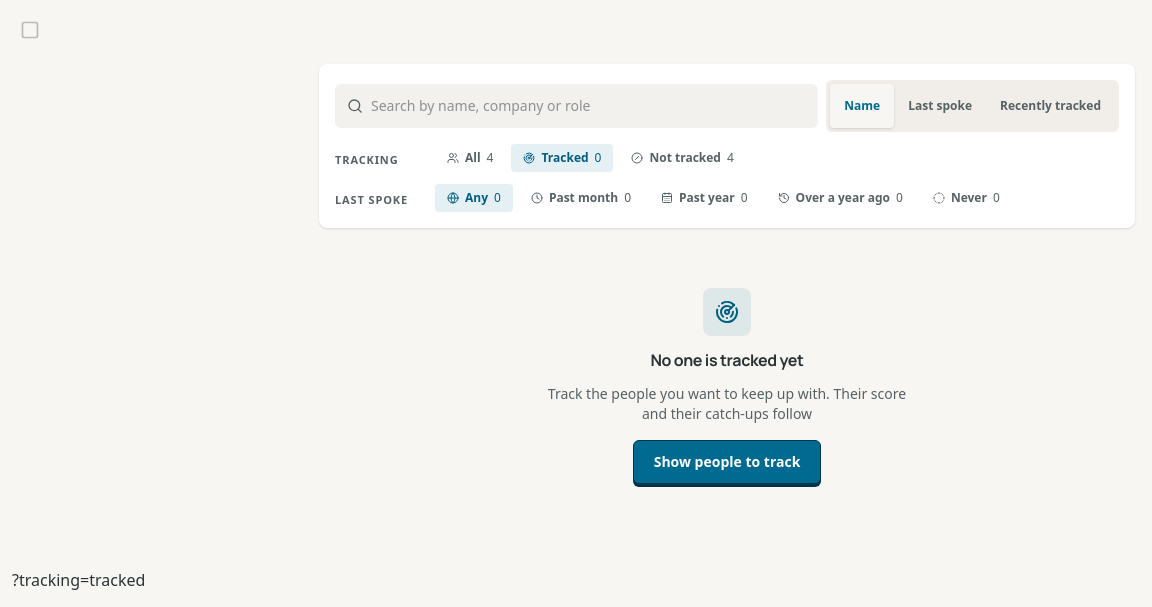
Test: the Tracked contacts page's filters › offers the people to track when Tracked is chosen and nobody is
Expected: the heading "No one is tracked yet" is shown, [650,348,804,372]
Click the button "Show people to track" at (727, 462), box [633,440,821,484]
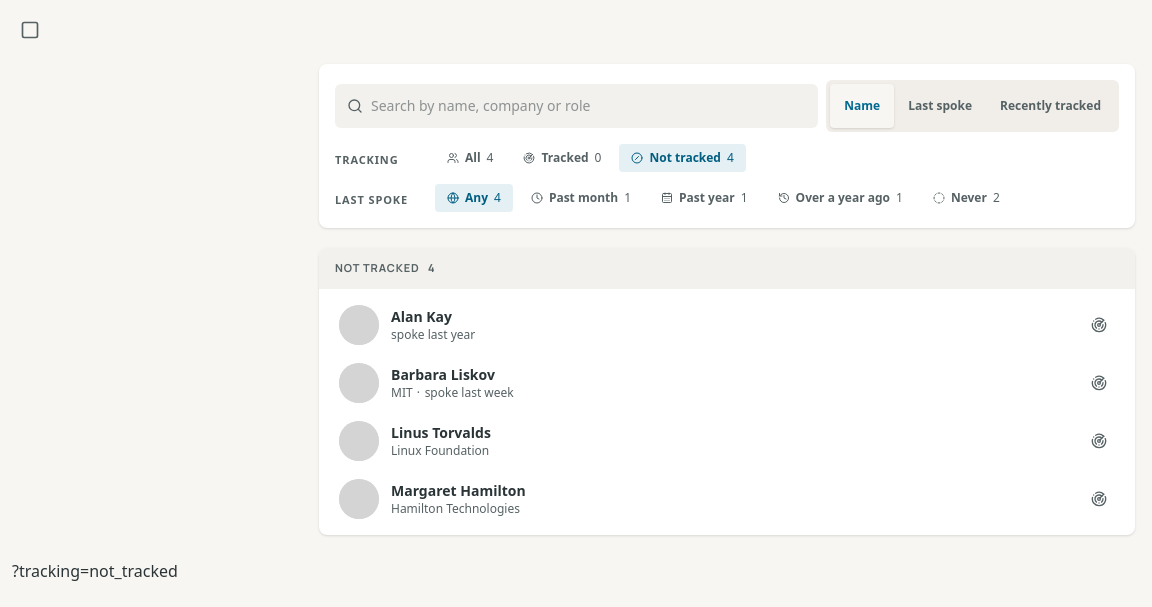
Expected: the text with test id "where" reads "?tracking=not_tracked", [12,560,178,582]
Expected: the number of links is 4, [391,306,452,326]; [391,364,495,384]; [391,422,491,442]; [391,480,526,500]
